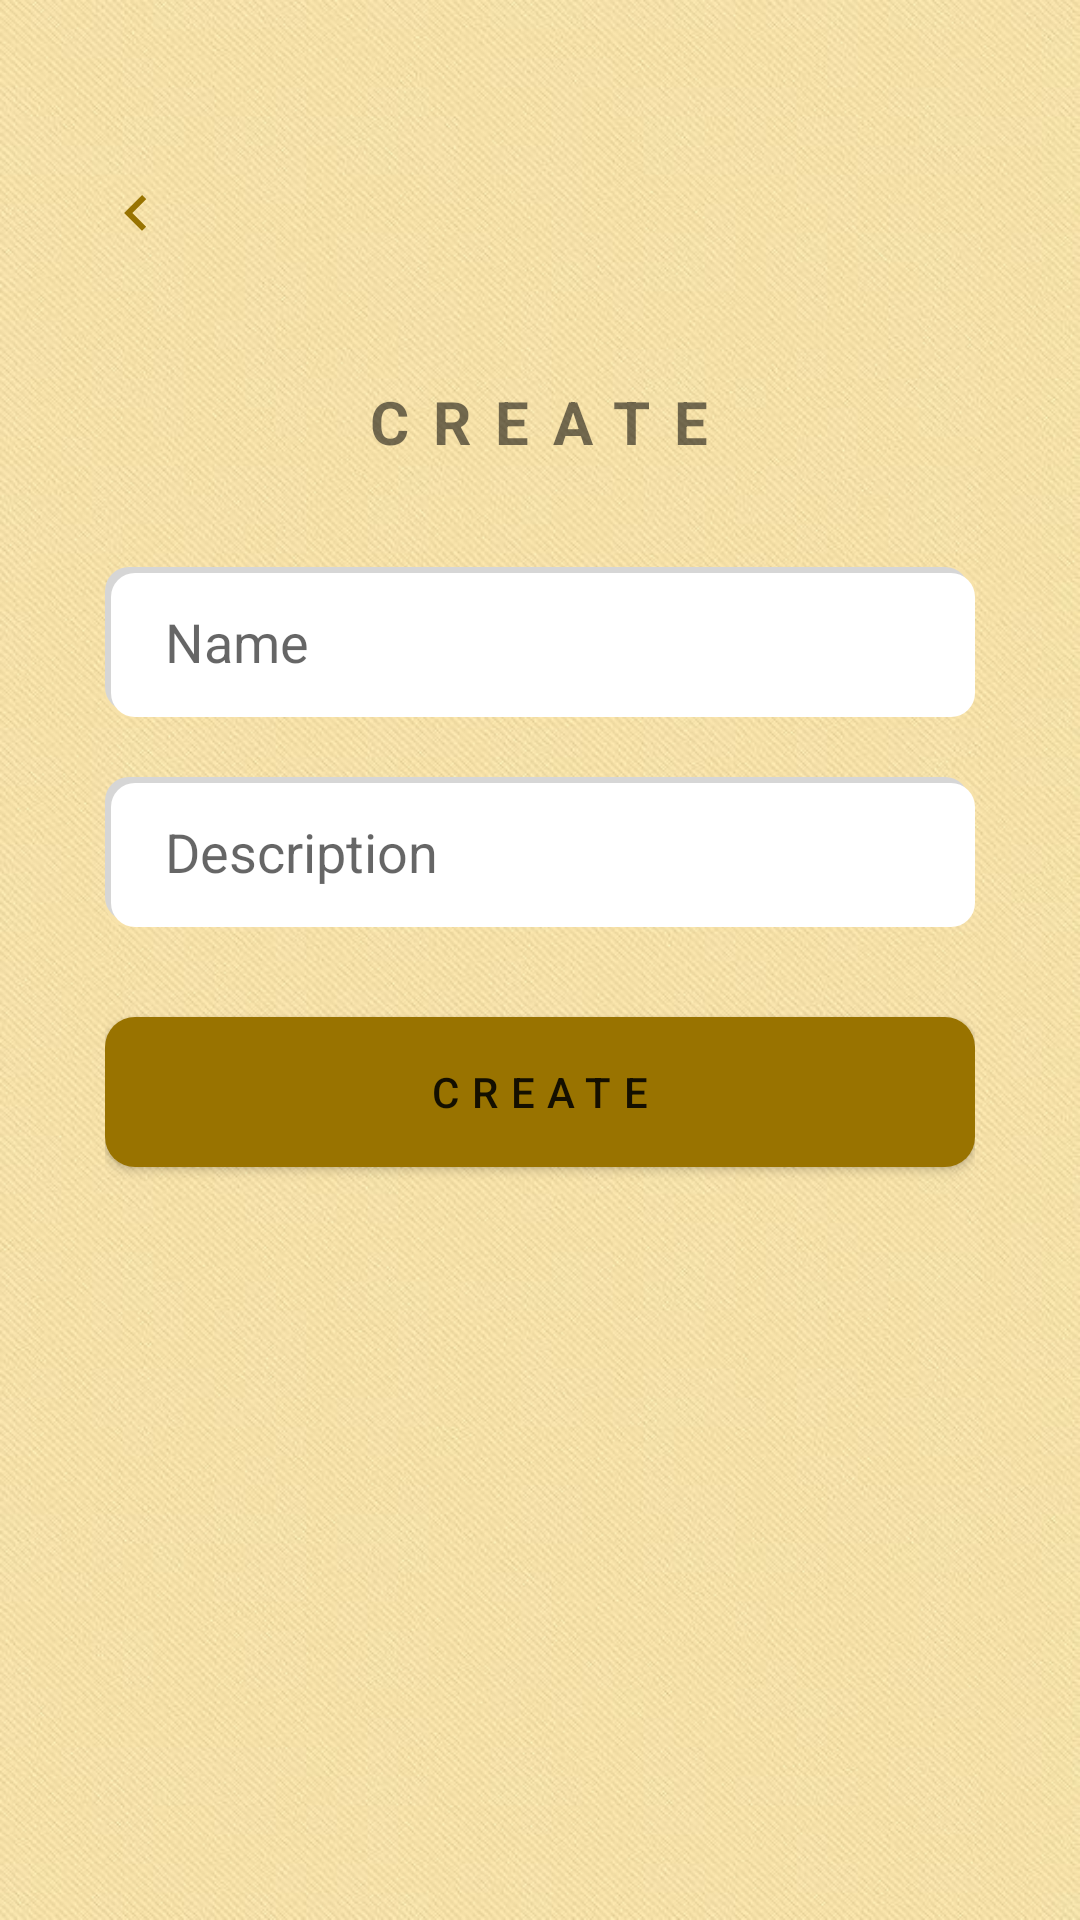

Named icons in this screenshot (1080×1920) and their centers, point (x, y):
keyboard arrow left: point (135, 213)
